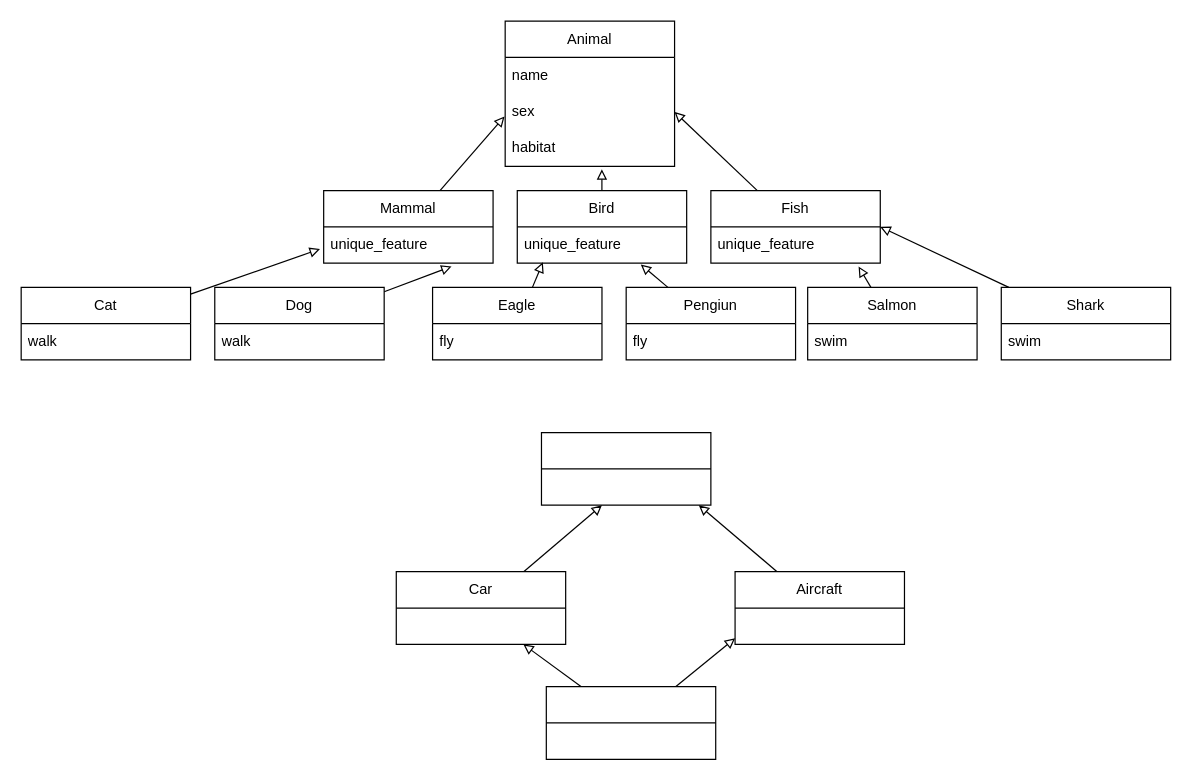
Some shapes in this 1192 by 780 pixel diagram are drawn without their labels. The shapes that lost their labels are listed below. From the top down, each one's centre as x and y in pixels, then its label:
At point (625, 468): "Vehicle".
At point (630, 722): "FlyingCar".
